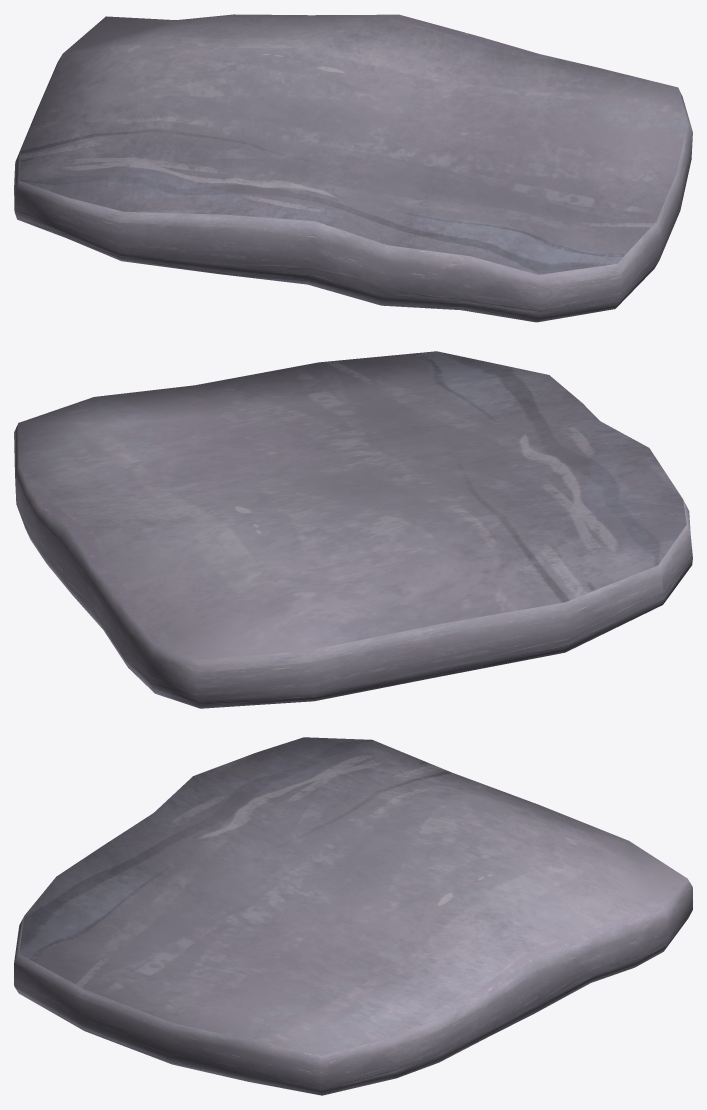
Rendered from flat_rock_1_001.fbx.
3 views of the same model, one above another, from view 1: azimuth 30°, elevation 25°; view 2: azimuth 150°, elevation 25°; view 3: azimuth 270°, elevation 25° (orthographic). The views are drawn at different scales.
Parts seen in each view (by area): view 1: flat rock 1.001; view 2: flat rock 1.001; view 3: flat rock 1.001.
Boxes of the visible parts, left/top/right/bottom form: flat rock 1.001: left=14, top=14, right=692, bottom=322; flat rock 1.001: left=14, top=351, right=692, bottom=708; flat rock 1.001: left=14, top=737, right=692, bottom=1095.
Bounding box in the file's own units: 2437 × 385 × 2464.
